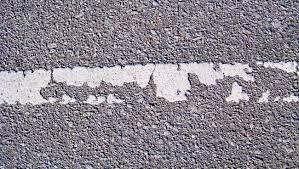faded_road_lines: (0, 58, 299, 107)
